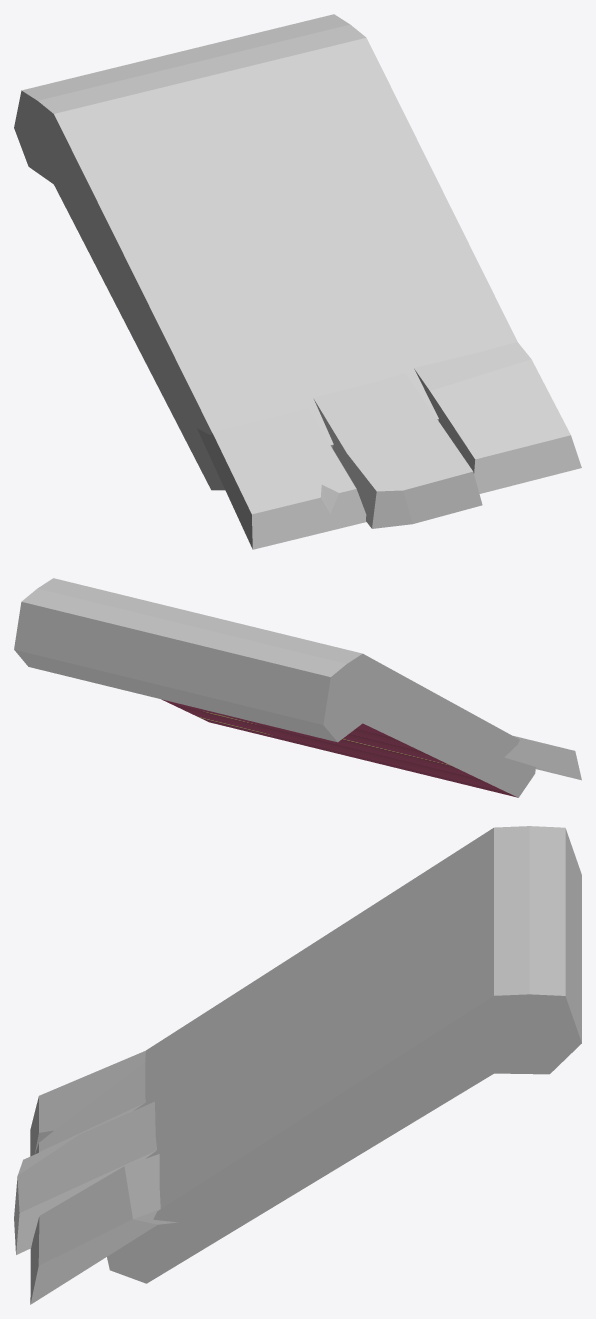
File: SM_Bld_Roof_Trim_Half_01.fbx
3 renders of one model, top to bottom at view 1: azimuth 30°, elevation 25°; view 2: azimuth 150°, elevation 25°; view 3: azimuth 270°, elevation 25°, orthographic. The views are drawn at different scales.
Visible parts, largest first — view 1: SM_Bld_Roof_Trim_Half_01; view 2: SM_Bld_Roof_Trim_Half_01; view 3: SM_Bld_Roof_Trim_Half_01.
Boxes of the visible parts, x1,y1,x2,y2 form: SM_Bld_Roof_Trim_Half_01: (14,14,581,549); SM_Bld_Roof_Trim_Half_01: (14,578,581,797); SM_Bld_Roof_Trim_Half_01: (14,826,581,1304).
Bounding box in the file's own units: 132 × 110 × 178.
